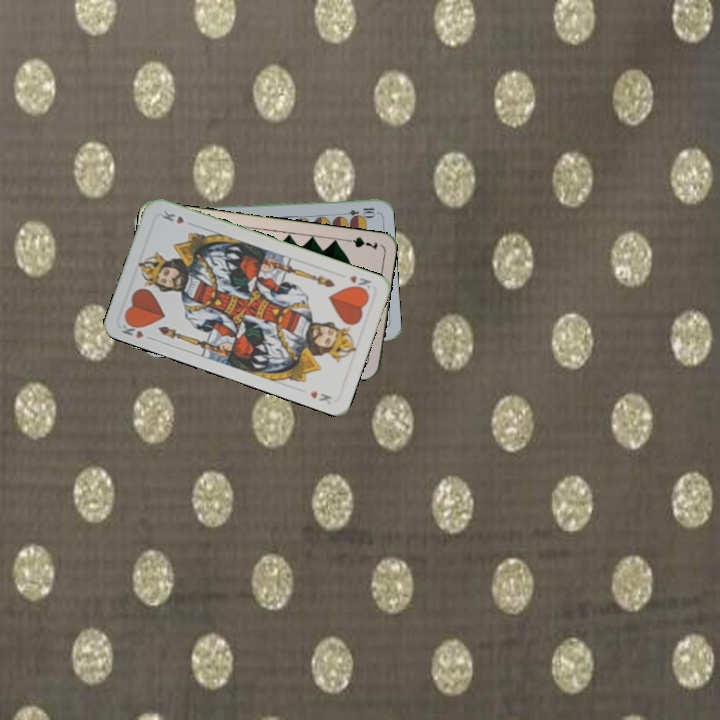E10: (337, 203, 378, 219)
G7: (340, 233, 380, 253)
HK: (117, 317, 156, 343), (346, 271, 374, 294)
